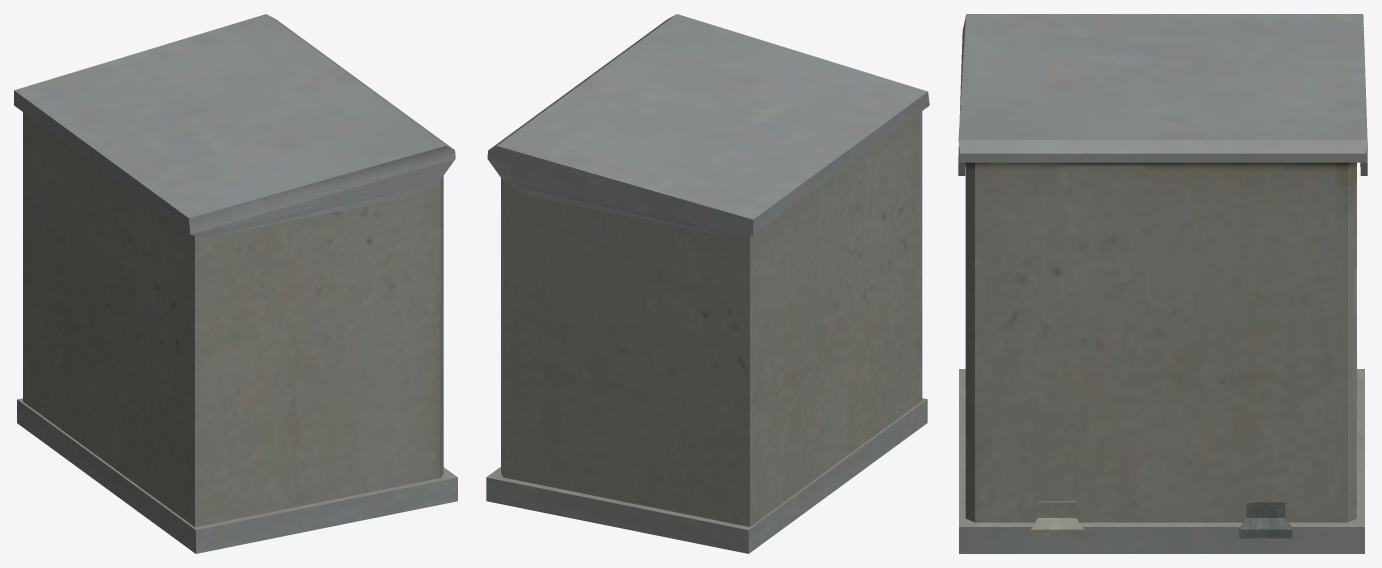
Rendered from powerbox02c.glb.
3 renders of one model, left to right at view 1: azimuth 30°, elevation 25°; view 2: azimuth 150°, elevation 25°; view 3: azimuth 270°, elevation 25°, orthographic. The views are drawn at different scales.
Visible parts, largest first — view 1: powerbox02c; view 2: powerbox02c; view 3: powerbox02c.
Boxes of the visible parts, x1=… form: powerbox02c: x1=14, y1=14, x2=457, y2=553; powerbox02c: x1=486, y1=14, x2=929, y2=553; powerbox02c: x1=958, y1=14, x2=1367, y2=553.
Size of the model in its own units: 0.1824 by 0.2326 by 0.2119.
1 material, 1 textured.
